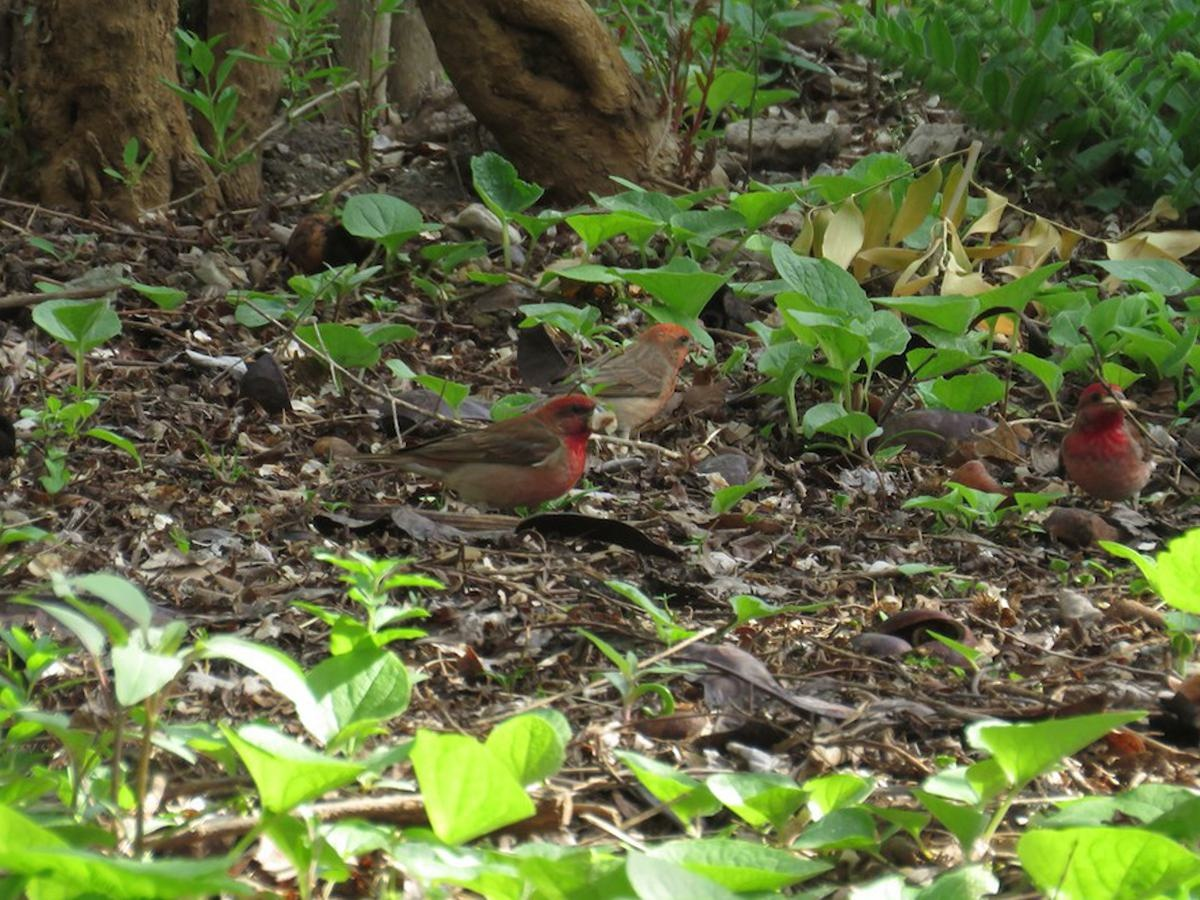rosefinch: (384, 392, 623, 527), (561, 323, 729, 425), (1073, 375, 1148, 520)
